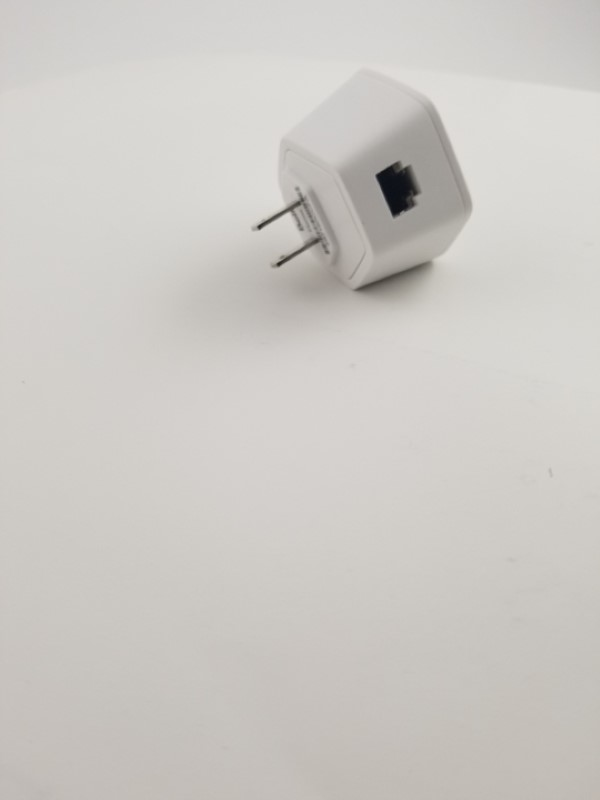pod: (246, 58, 483, 308)
